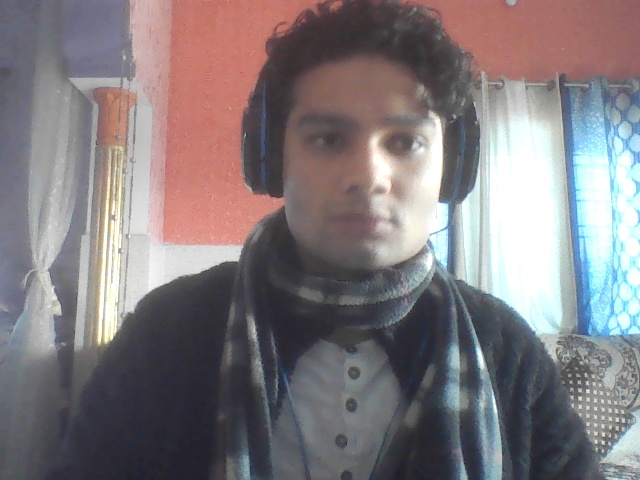real: (253, 0, 464, 299)
